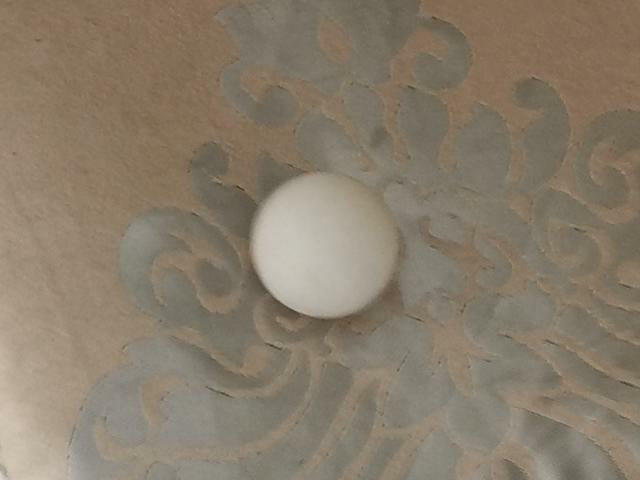ball: (251, 174, 401, 319)
